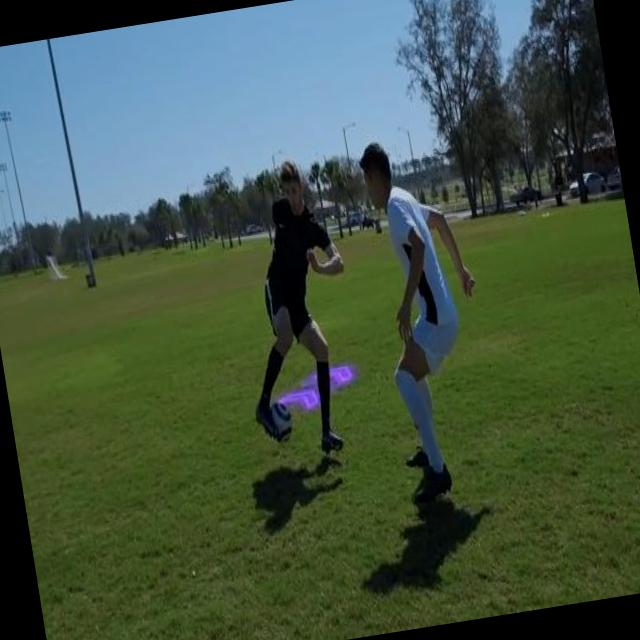Soccer Ball: (262, 398, 296, 450)
